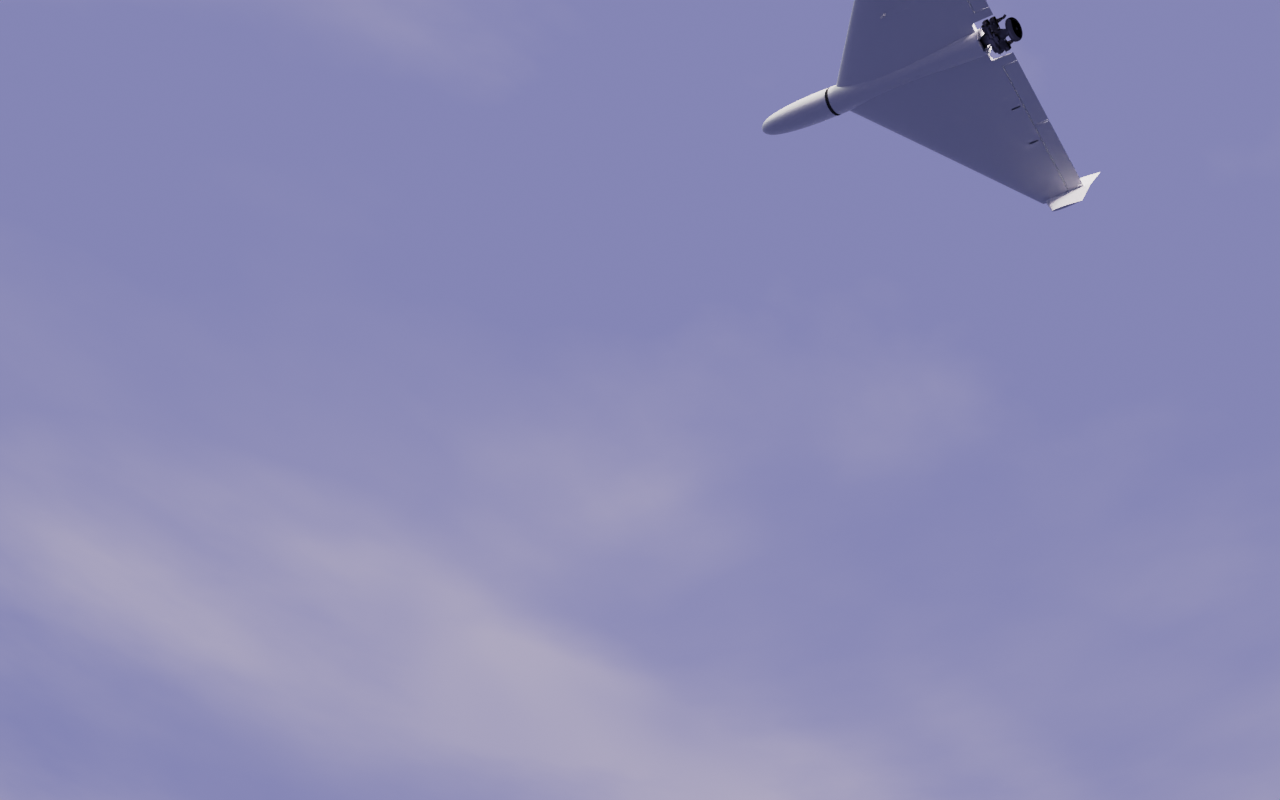shahed: (762, 1, 1102, 213)
